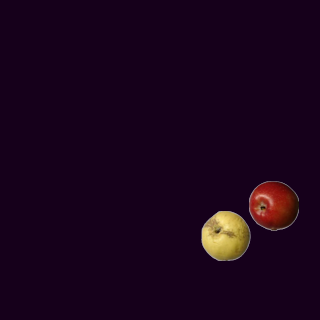Apple Braeburn: (248, 180, 298, 230)
Apple Golden 1: (200, 210, 250, 260)
